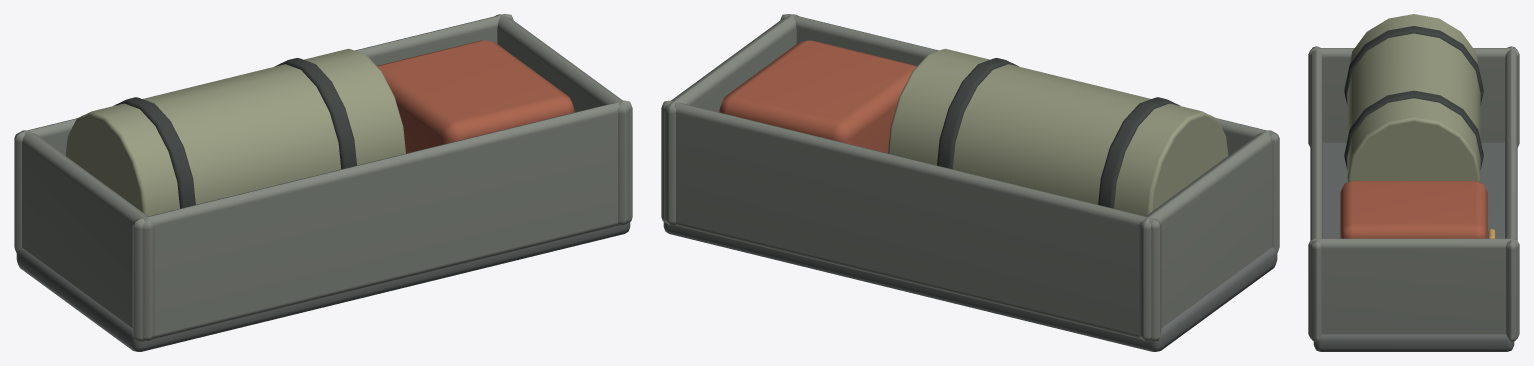
File: STK-C01.fbx
The picture shows the model from 3 angles, left to right: view 1: azimuth 30°, elevation 25°; view 2: azimuth 150°, elevation 25°; view 3: azimuth 270°, elevation 25°; orthographic projection. The views are drawn at different scales.
Parts seen in each view (by area): view 1: STK-C01_Edge, STK-C01_Canvas, STK-C01_Oxide, STK-C01_Steel, STK-C01_Rubber; view 2: STK-C01_Edge, STK-C01_Canvas, STK-C01_Oxide, STK-C01_Steel, STK-C01_Rubber; view 3: STK-C01_Edge, STK-C01_Canvas, STK-C01_Oxide, STK-C01_Steel, STK-C01_Rubber.
Boxes of the visible parts, bbox=[...] form: STK-C01_Edge: bbox=[14, 14, 632, 341]; STK-C01_Canvas: bbox=[65, 48, 405, 216]; STK-C01_Oxide: bbox=[377, 40, 574, 153]; STK-C01_Steel: bbox=[16, 222, 630, 351]; STK-C01_Rubber: bbox=[113, 58, 356, 208]; STK-C01_Edge: bbox=[661, 14, 1279, 341]; STK-C01_Canvas: bbox=[888, 48, 1228, 216]; STK-C01_Oxide: bbox=[719, 40, 916, 153]; STK-C01_Steel: bbox=[663, 222, 1277, 351]; STK-C01_Rubber: bbox=[937, 58, 1180, 208]; STK-C01_Edge: bbox=[1308, 46, 1519, 341]; STK-C01_Canvas: bbox=[1347, 14, 1480, 181]; STK-C01_Oxide: bbox=[1340, 181, 1487, 238]; STK-C01_Steel: bbox=[1313, 142, 1514, 351]; STK-C01_Rubber: bbox=[1344, 26, 1483, 169].
Size of the model in its own units: 170 by 62 by 76.
